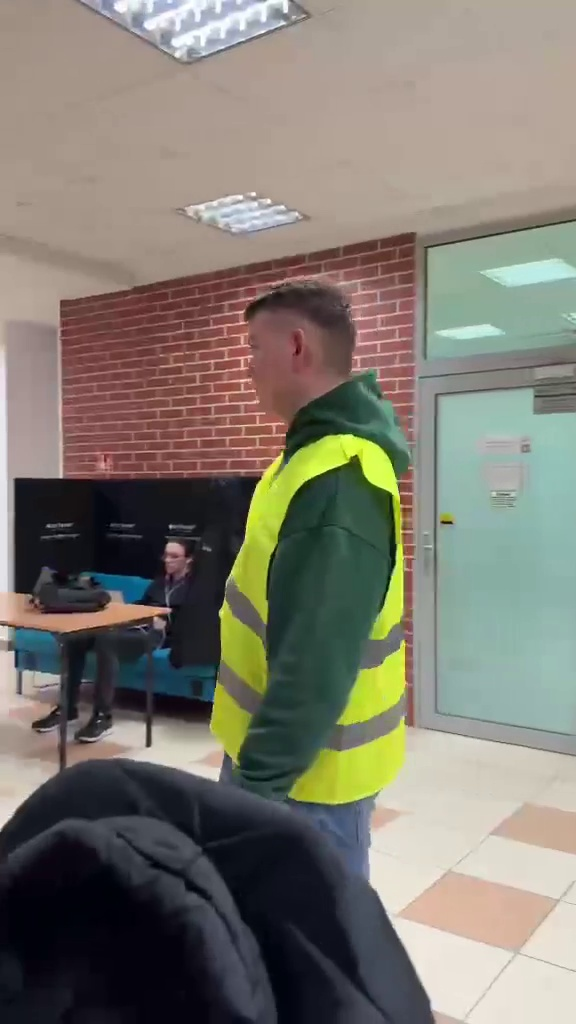no vest: (51, 527, 202, 734)
vest: (218, 272, 410, 854)
